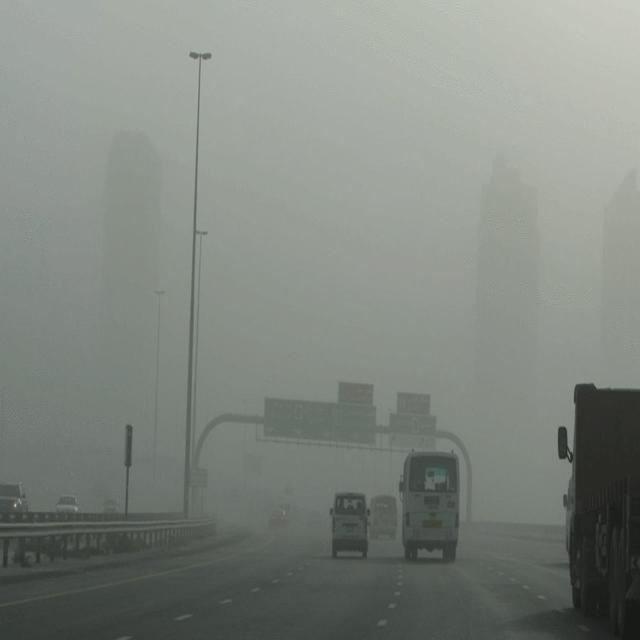Car: (50, 479, 84, 526), (267, 494, 297, 540)
Truck: (553, 343, 640, 639)
Van: (393, 427, 471, 562), (326, 481, 371, 564), (371, 478, 398, 542)
